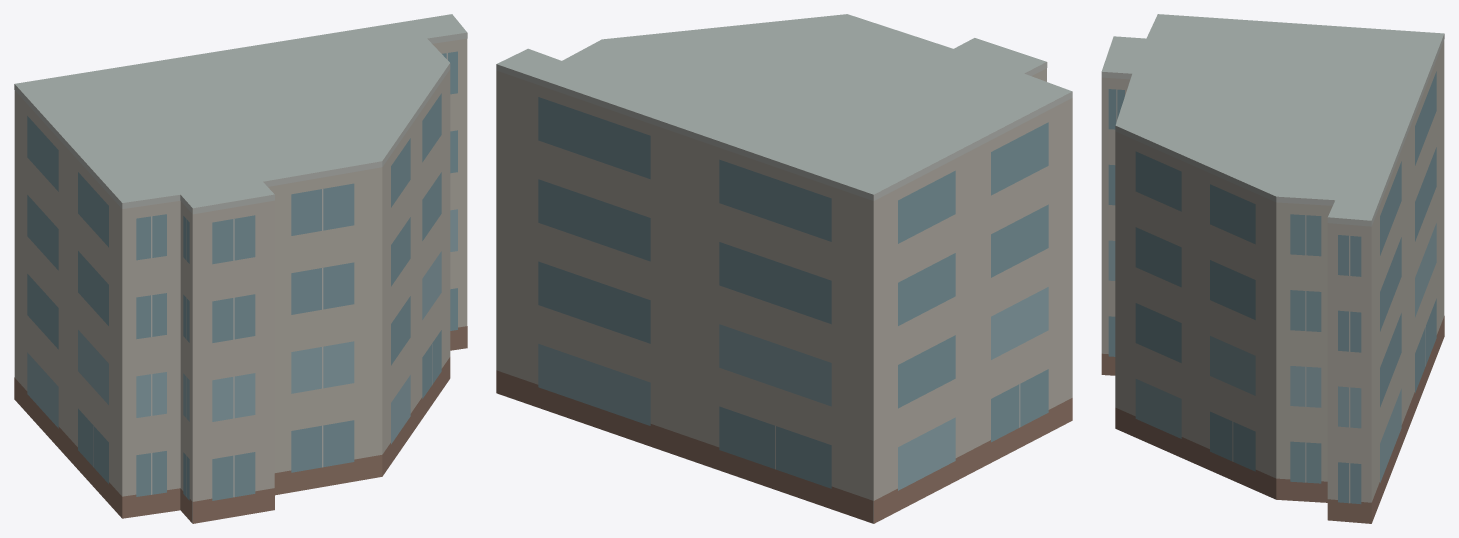
Rendered from survey-upis-33001039.glb.
3 views of the same model, side by side, from view 1: azimuth 30°, elevation 25°; view 2: azimuth 150°, elevation 25°; view 3: azimuth 270°, elevation 25° (orthographic). The views are drawn at different scales.
Visible parts, largest first — view 1: survey-upis-33001039.tmp; view 2: survey-upis-33001039.tmp; view 3: survey-upis-33001039.tmp.
Part boxes in pixels (<box>): survey-upis-33001039.tmp: <box>14,14,467,523</box>; survey-upis-33001039.tmp: <box>496,14,1072,523</box>; survey-upis-33001039.tmp: <box>1101,14,1444,523</box>.
Size of the model in its own units: 18.59 by 12.7 by 13.03.
